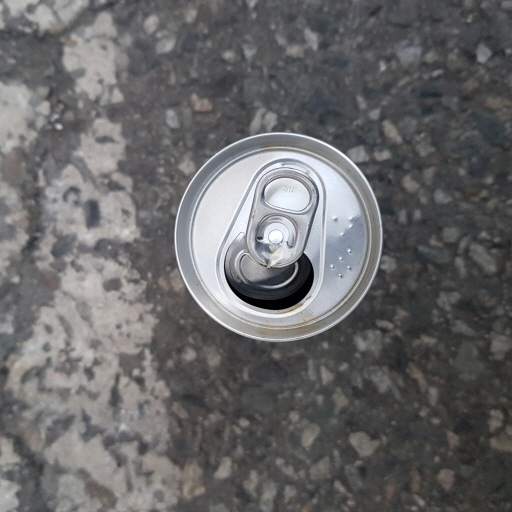Metal_0: (169, 126, 385, 349)
